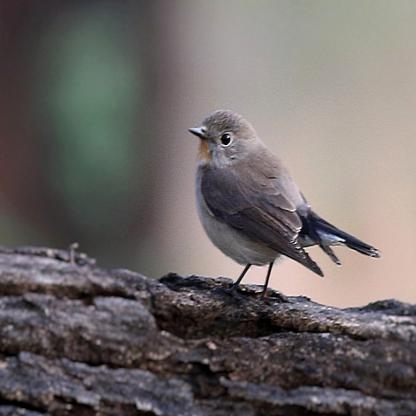Burung: (187, 107, 385, 294)
